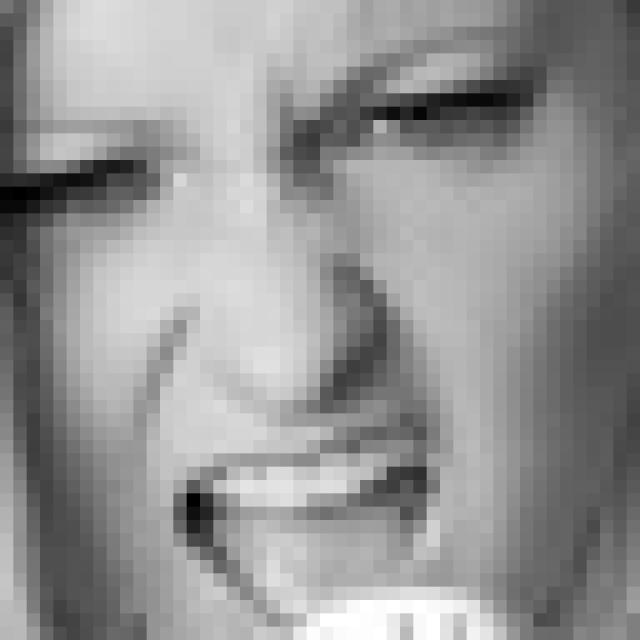angry: (0, 19, 534, 622)
